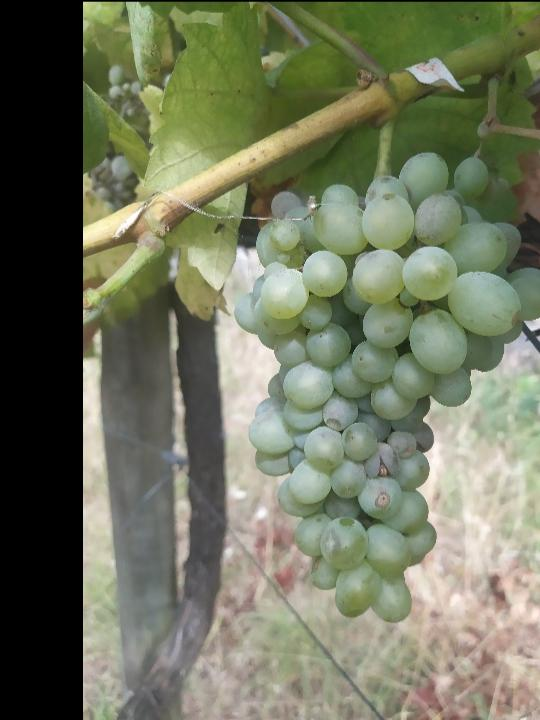grape: (229, 145, 540, 627)
